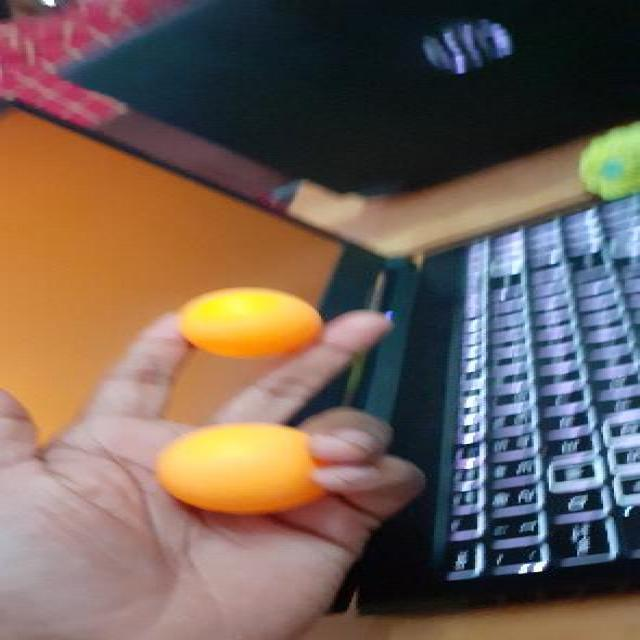oball: (148, 422, 318, 512), (170, 286, 322, 356)
